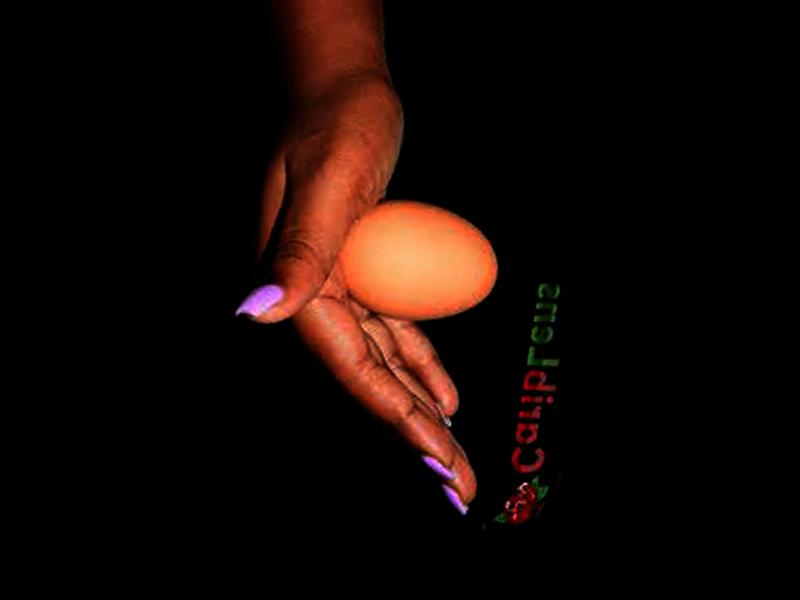Eggs: (333, 190, 508, 334)
